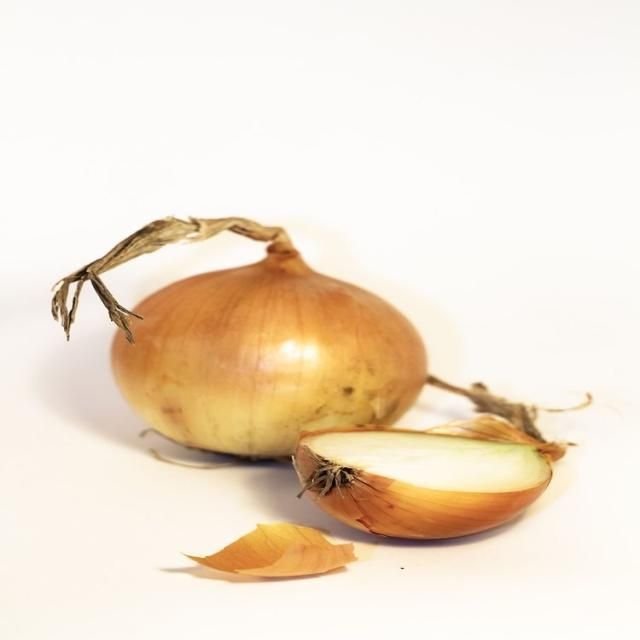sprouting: (66, 107, 385, 422)
